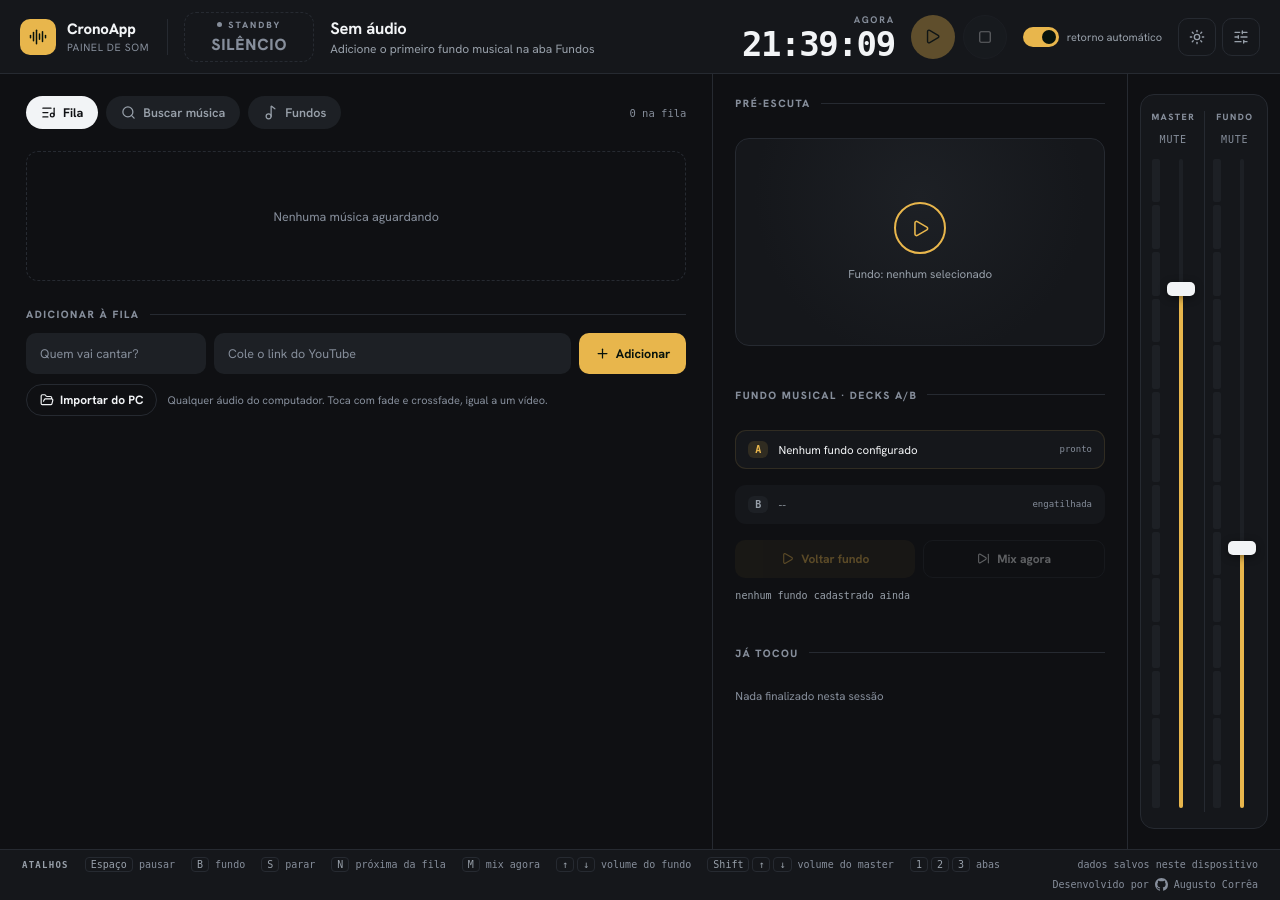
Test: tocar (RF-01.7) › renomear no lugar confirma com Enter (RF-01.5)
Type "Ana" into the field named "Nome da pessoa" at {"x": 116, "y": 354}, box 26,333 -> 206,374
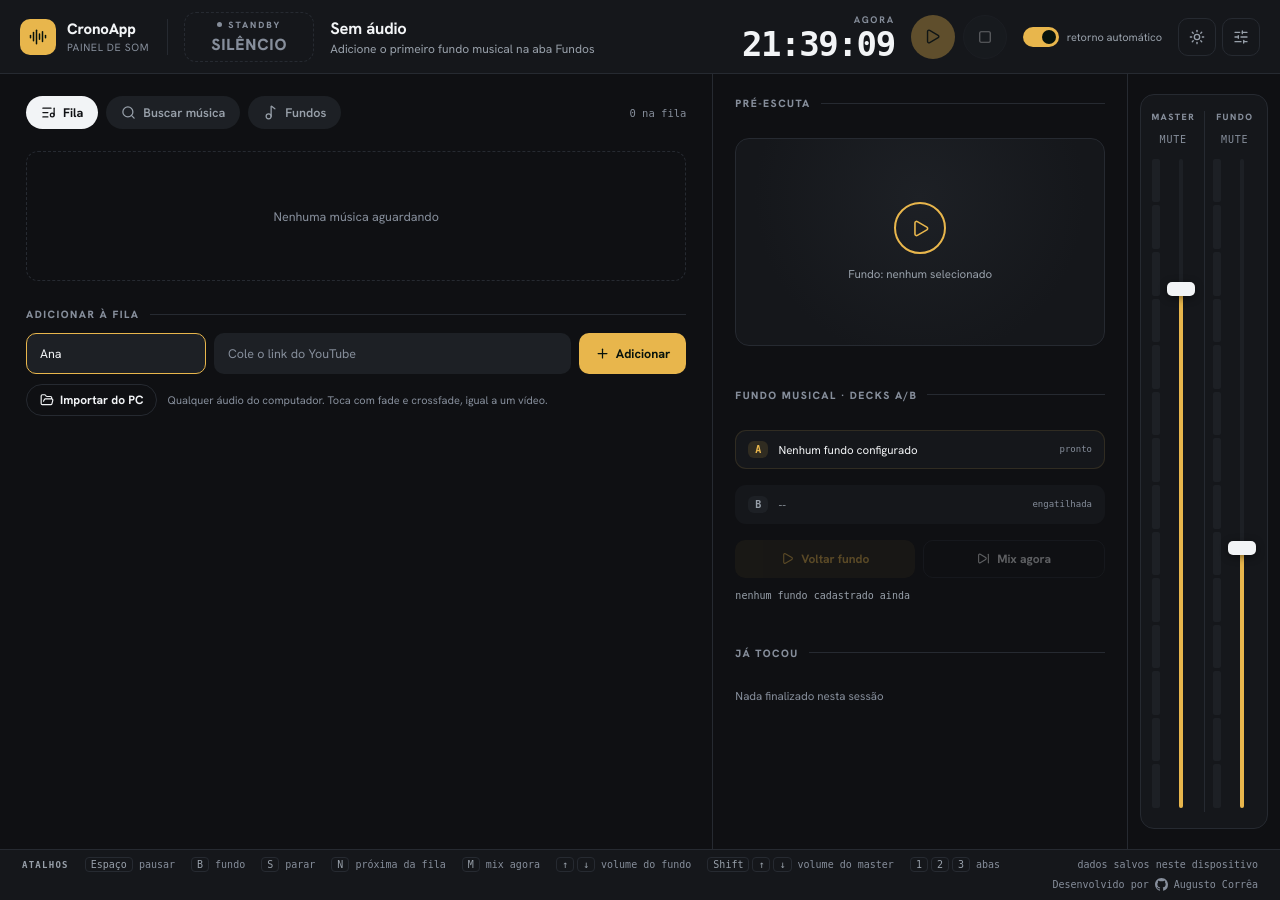
Type "https://youtu.be/dQw4w9WgXcQ" into the field labelled "link do YouTube" at {"x": 392, "y": 354}, box 214,333 -> 571,374
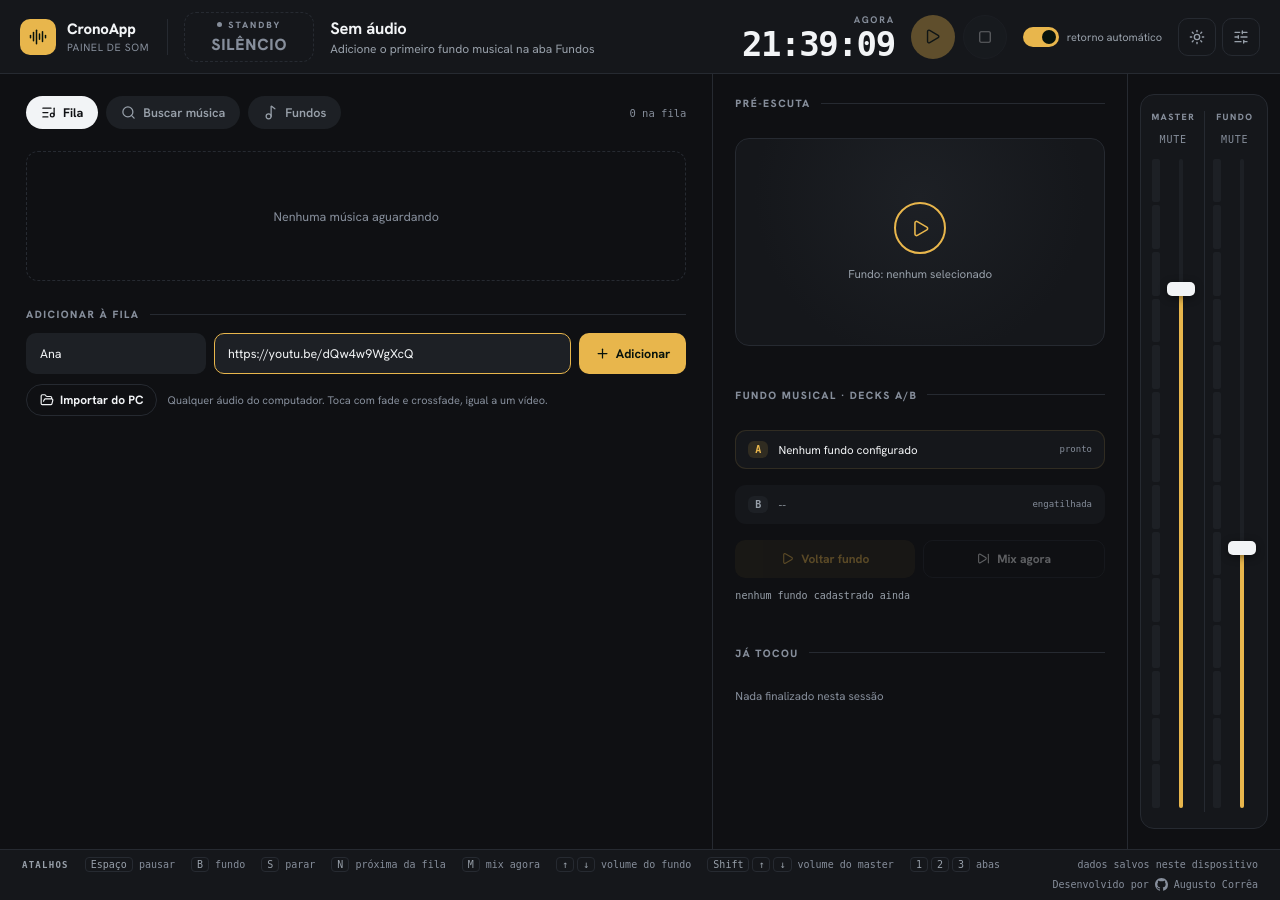
Click the button "Adicionar" at {"x": 633, "y": 354}, box 579,333 -> 686,374
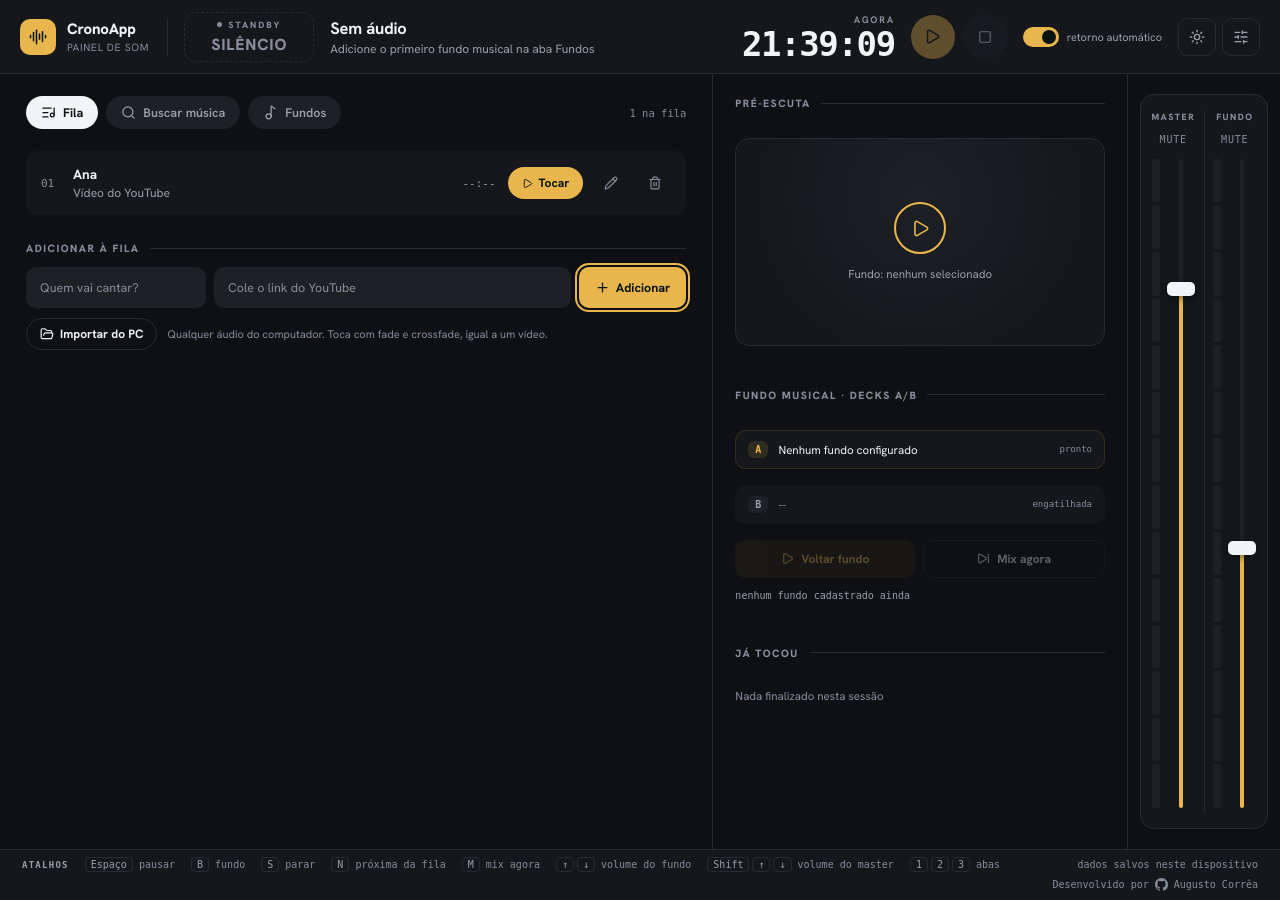
Click the button named "Editar nome" at {"x": 611, "y": 183}, box 595,167 -> 627,199
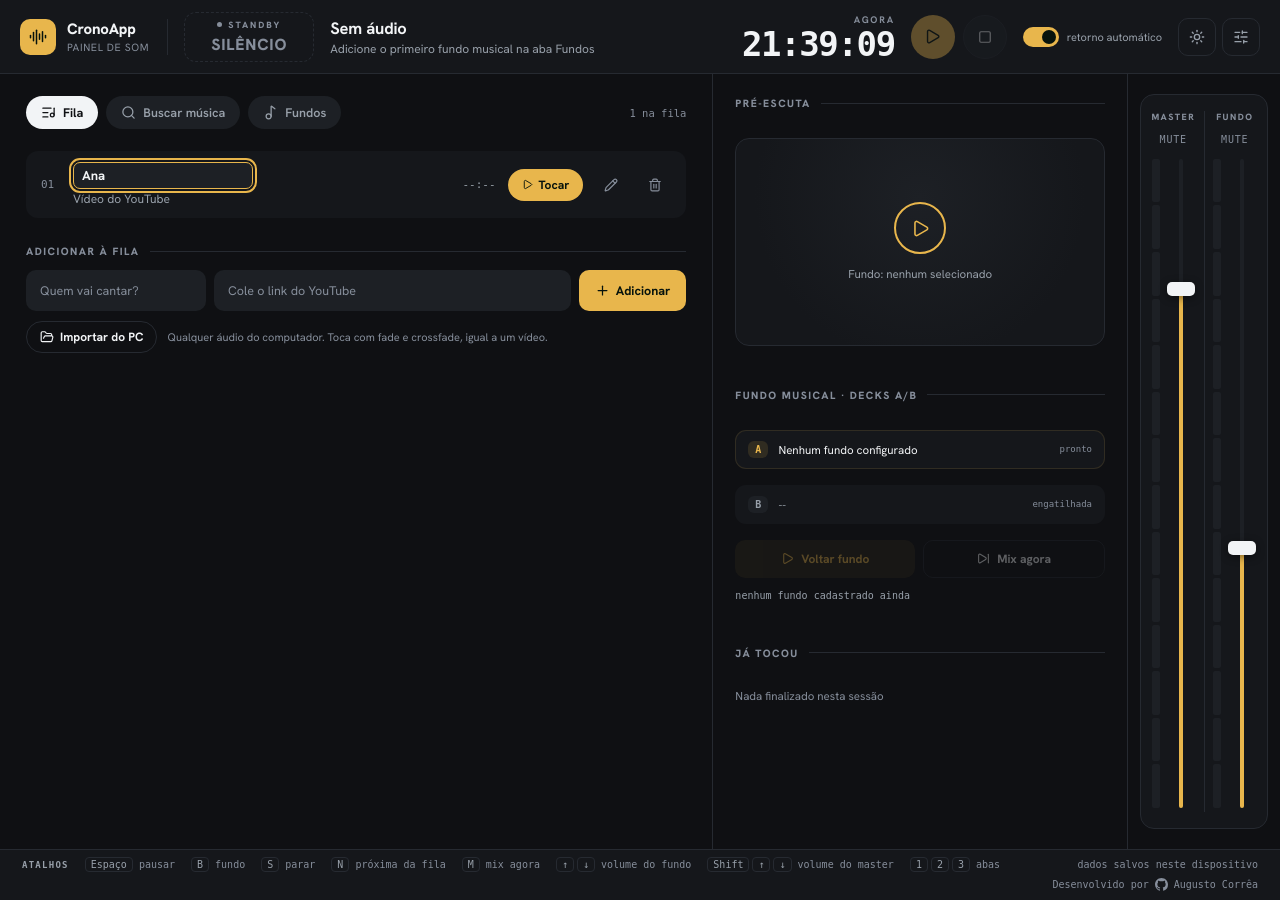
Replace the text in the field named "Renomear Ana" with "Ana Paula" at {"x": 163, "y": 176}, box 73,162 -> 253,189
Then press Enter
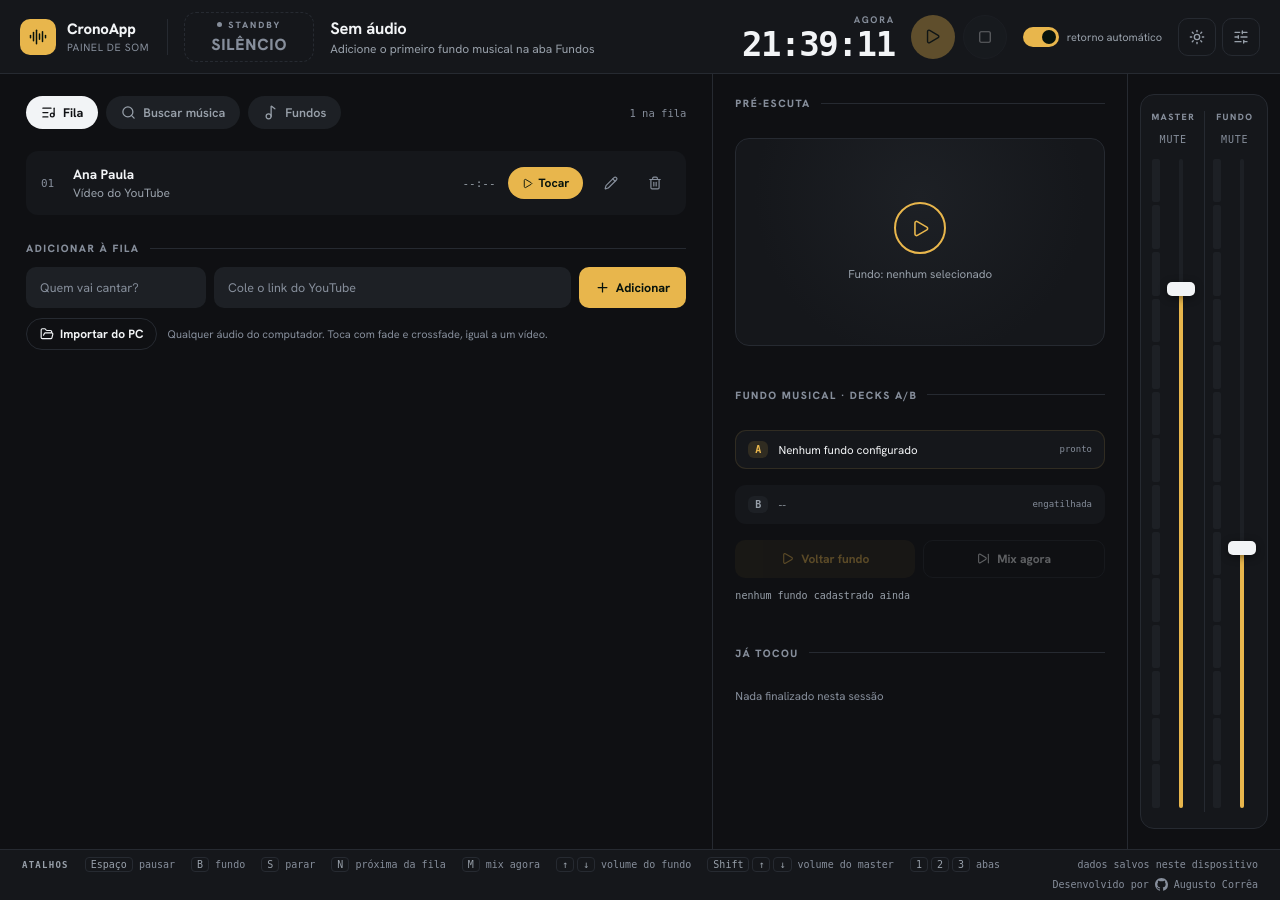
Expected: the text "Ana Paula" is shown, 73,165 -> 134,183
